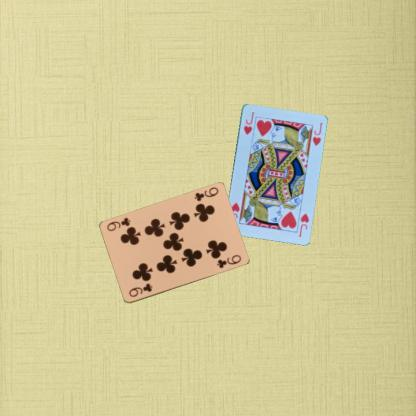9c: (192, 185, 219, 203), (126, 281, 154, 298)
Jh: (296, 210, 310, 238), (241, 109, 255, 136)
